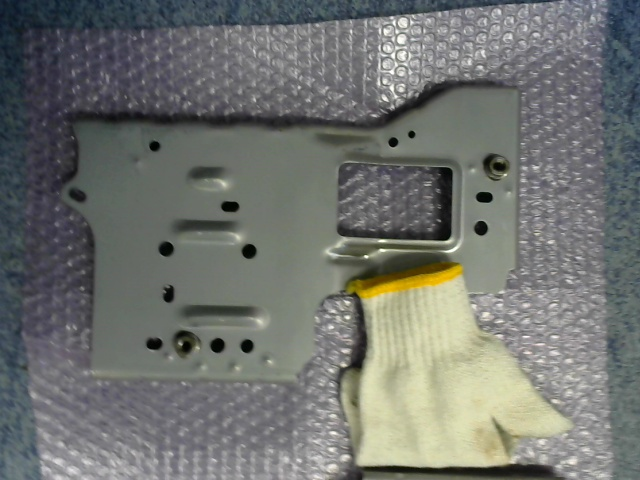dog: (173, 329, 201, 359), (483, 153, 511, 181)
